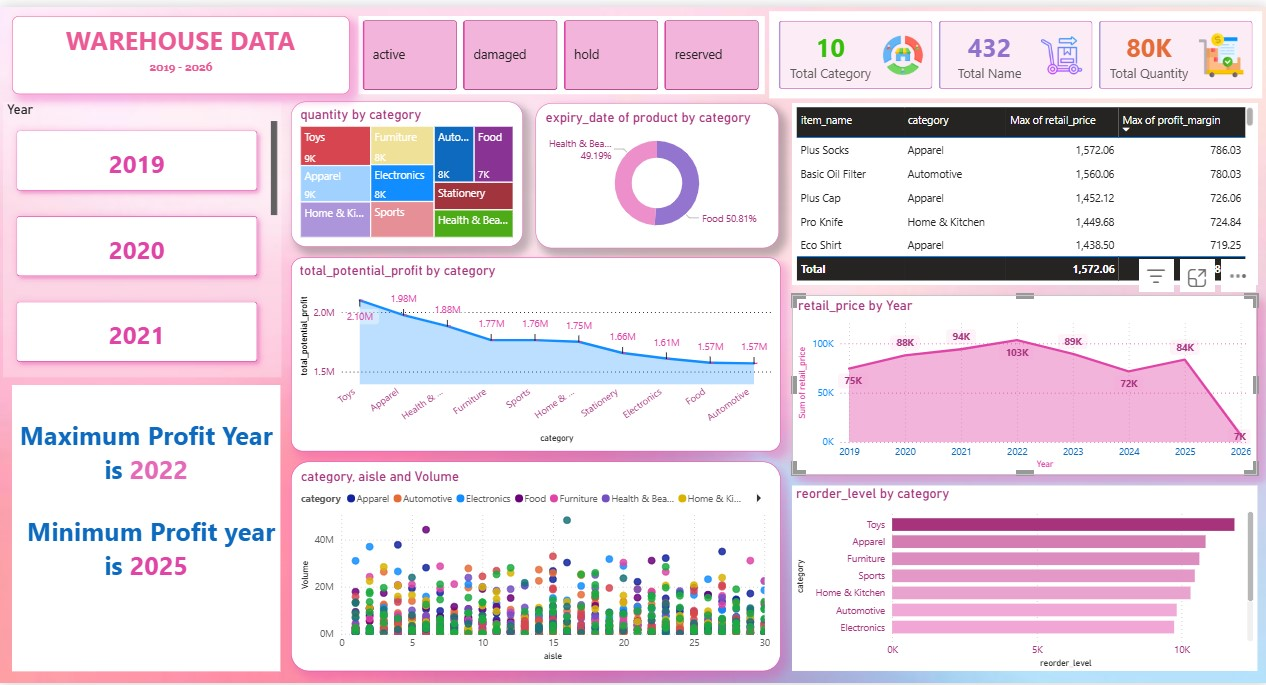

This screenshot's page, from the dashboard's own definition file:
{"tool":"powerbi","page":{"name":"Page 1","canvas":[1600,853],"ordinal":0},"visuals":[{"type":"treemap","title":"quantity by category","fields":{"Group":["warehouse (1).category"],"Values":["Sum(warehouse (1).quantity)"]},"box":[366.9,119.4,292.5,183.5],"z":0},{"type":"donutChart","fields":{"Category":["warehouse (1).category"],"Y":["CountNonNull(warehouse (1).expiry_date)"]},"box":[675.4,120.5,307.2,183.3],"z":1000},{"type":"cardVisual","fields":{"Data":["Count(warehouse (1).category)","Count(warehouse (1).item_name)","Sum(warehouse (1).quantity)"]},"box":[965.6,0,634.7,120.5],"z":2000},{"type":"areaChart","fields":{"Category":["warehouse (1).category"],"Y":["Sum(warehouse (1).total_potential_profit)"]},"box":[366.5,315.6,617.7,244.4],"z":3000},{"type":"scatterChart","fields":{"X":["warehouse (1).aisle"],"Y":["warehouse (1).Volume"],"Series":["warehouse (1).category"]},"box":[366.5,573.6,617.7,264.7],"z":4000},{"type":"advancedSlicerVisual","fields":{"Values":["warehouse (1).status"]},"box":[453.1,11.9,512.5,98.4],"z":5000},{"type":"advancedSlicerVisual","fields":{"Values":["warehouse (1).last_restock_date.Variation.Date Hierarchy.Year"]},"box":[3.5,119.4,351.3,347.9],"z":6000},{"type":"textbox","box":[15.3,11.9,425.9,98.4],"z":7000},{"type":"textbox","box":[179.9,61.1,96.7,32.2],"z":8000},{"type":"tableEx","fields":{"Values":["warehouse (1).item_name","warehouse (1).category","Max(warehouse (1).retail_price)","Max(warehouse (1).profit_margin)"]},"box":[999.5,120.5,587.2,229.1],"z":9000},{"type":"lineChart","title":"retail_price by Year","fields":{"Category":["warehouse (1).last_restock_date.Variation.Date Hierarchy.Year"],"Y":["Sum(warehouse (1).retail_price)"]},"box":[999.5,363.2,587.2,227.4],"z":9001},{"type":"textbox","box":[15.1,477,338.8,361.5],"z":9002},{"type":"clusteredBarChart","fields":{"Category":["warehouse (1).category"],"Y":["Sum(warehouse (1).reorder_level)"]},"box":[999.5,604.1,587.2,234.2],"z":9004}]}

Visuals, with their boxes in screenshot pixels (x1, y1, x2, y2), scaled from the page's 1600x853 canvas onto the 1266x685 screenshot:
"quantity by category" treemap: x1=290, y1=96, x2=522, y2=243
donutChart - warehouse (1).category x CountNonNull(warehouse (1).expiry_date): x1=534, y1=97, x2=777, y2=244
cardVisual - Count(warehouse (1).category) x Count(warehouse (1).item_name): x1=764, y1=0, x2=1265, y2=97
areaChart - warehouse (1).category x Sum(warehouse (1).total_potential_profit): x1=290, y1=253, x2=779, y2=450
scatterChart - warehouse (1).aisle x warehouse (1).Volume: x1=290, y1=461, x2=779, y2=673
advancedSlicerVisual - warehouse (1).status: x1=359, y1=10, x2=764, y2=89
advancedSlicerVisual - warehouse (1).last_restock_date.Variation.Date Hierarchy.Year: x1=3, y1=96, x2=281, y2=375
textbox: x1=12, y1=10, x2=349, y2=89
textbox: x1=142, y1=49, x2=219, y2=75
tableEx - warehouse (1).item_name x warehouse (1).category: x1=791, y1=97, x2=1255, y2=281
"retail_price by Year" lineChart: x1=791, y1=292, x2=1255, y2=474
textbox: x1=12, y1=383, x2=280, y2=673
clusteredBarChart - warehouse (1).category x Sum(warehouse (1).reorder_level): x1=791, y1=485, x2=1255, y2=673
